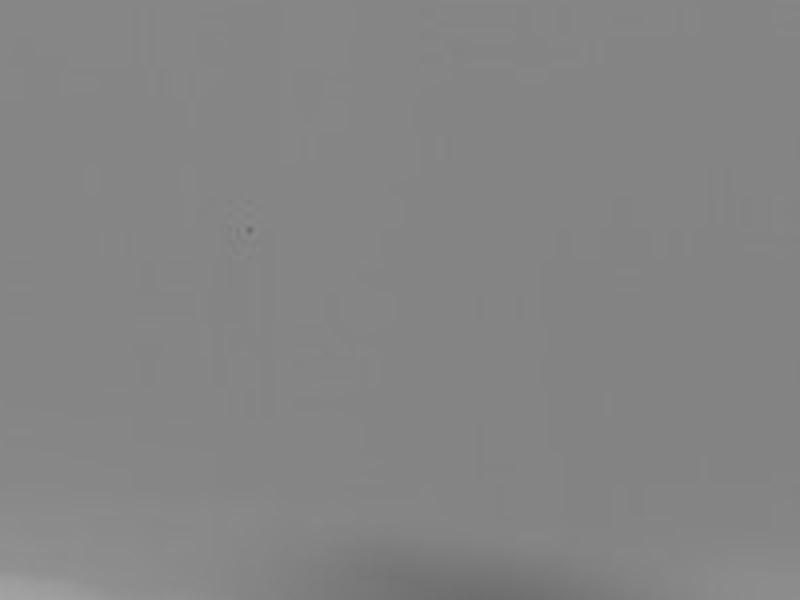defect: (240, 221, 261, 241)
